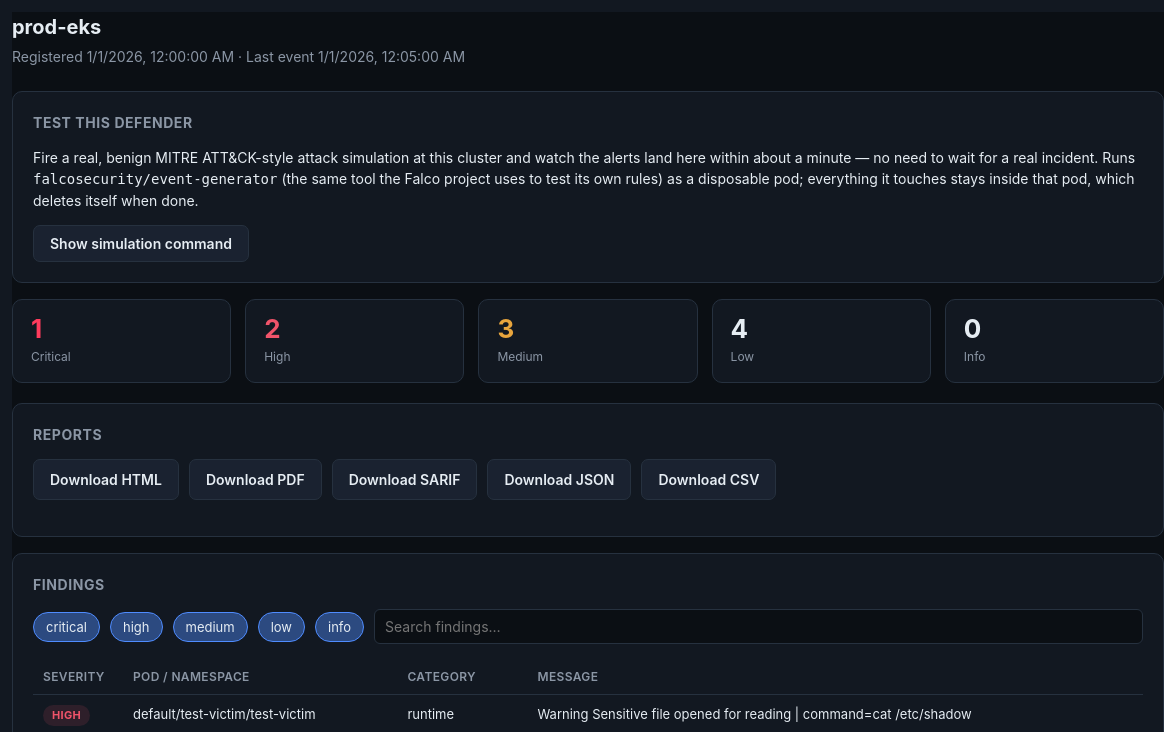
Test: RuntimeClusterDetail › shows the attack simulation command only after the user asks for it
The image size is (1164, 732).
Expected: the heading "prod-eks" is shown, [12,15,101,39]
Click the button "Show simulation command": point(141, 244) [33,225,249,262]
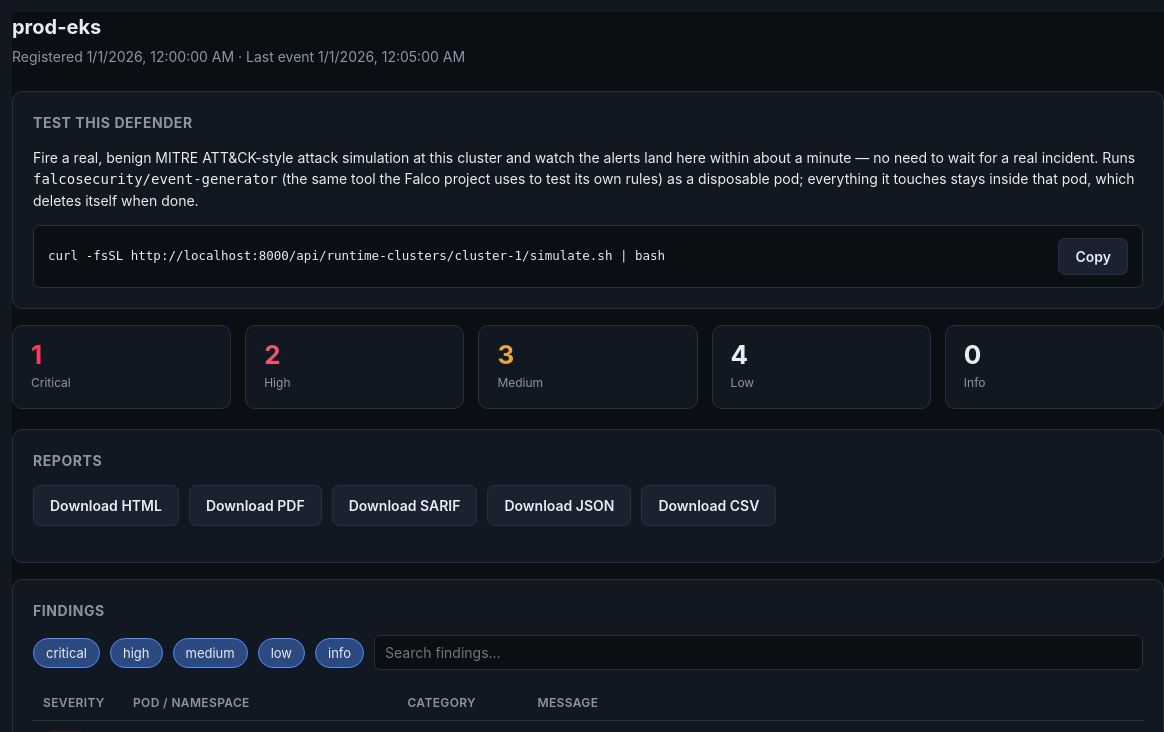
Result: the text "curl -fsSL http://localhost:8000/api/runtime-clusters/cluster-1/simulate.sh | bash" is shown at [48,248,665,263]
